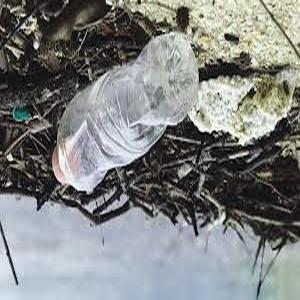Plastic: (50, 31, 200, 192)
